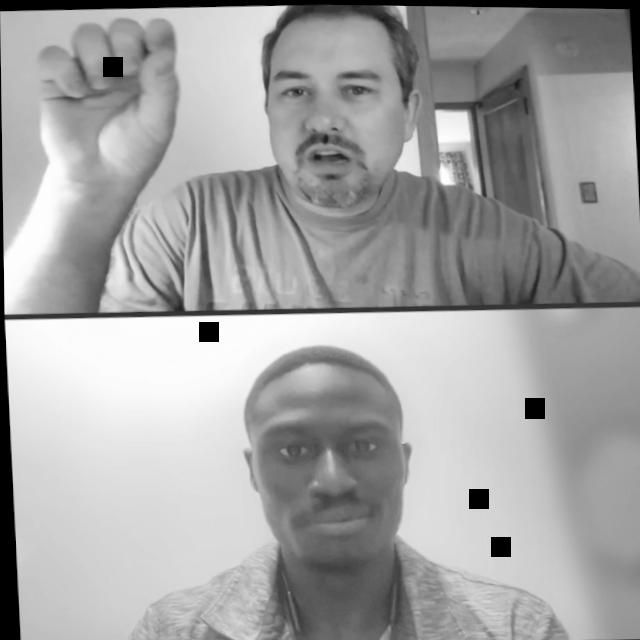NO-Mask: (233, 340, 416, 575), (255, 3, 421, 217)
